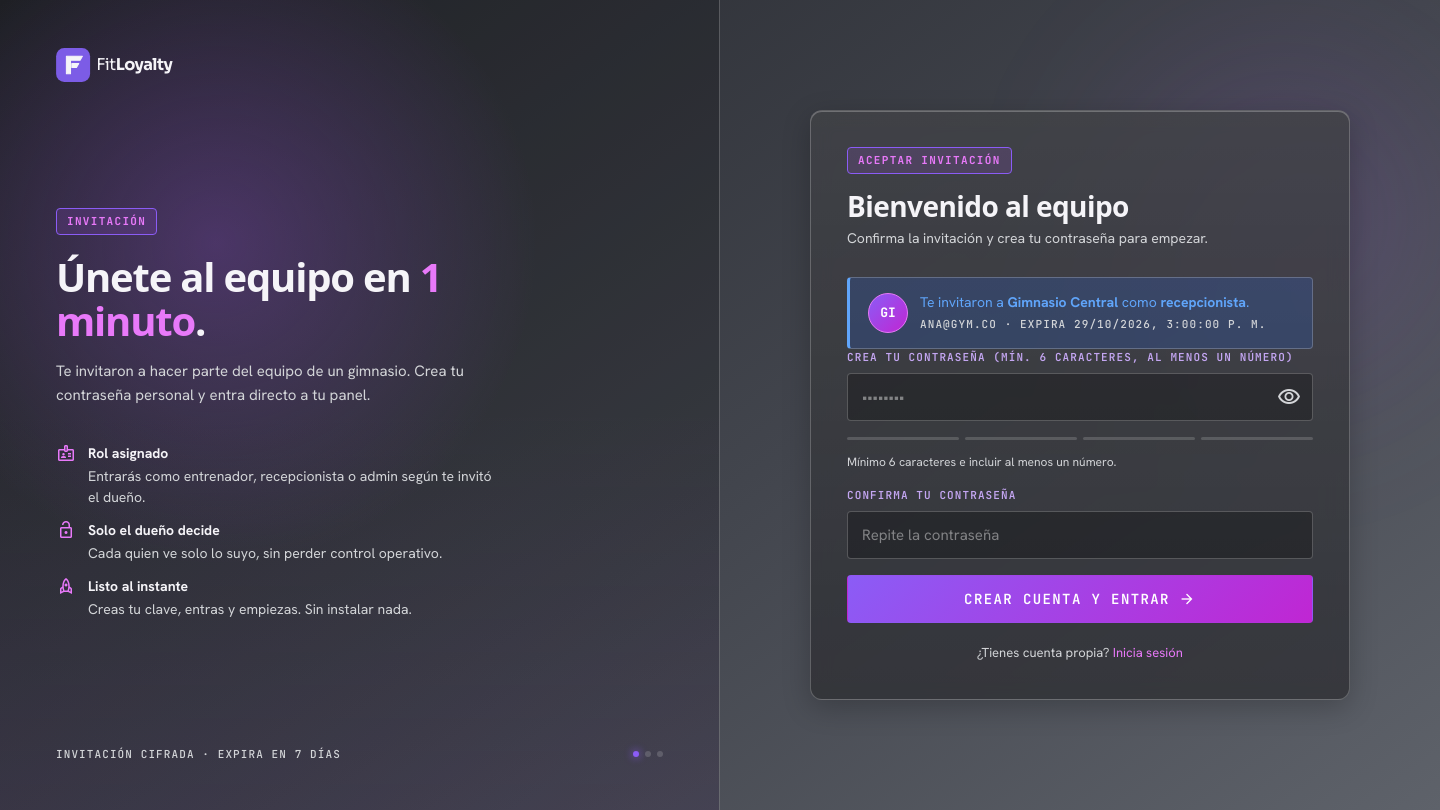
AcceptInvitePage: la contrasena › should explain what is missing when the password is clave
Type "clave" into the 1st password field at (1080, 397), box [847,373,1313,421]
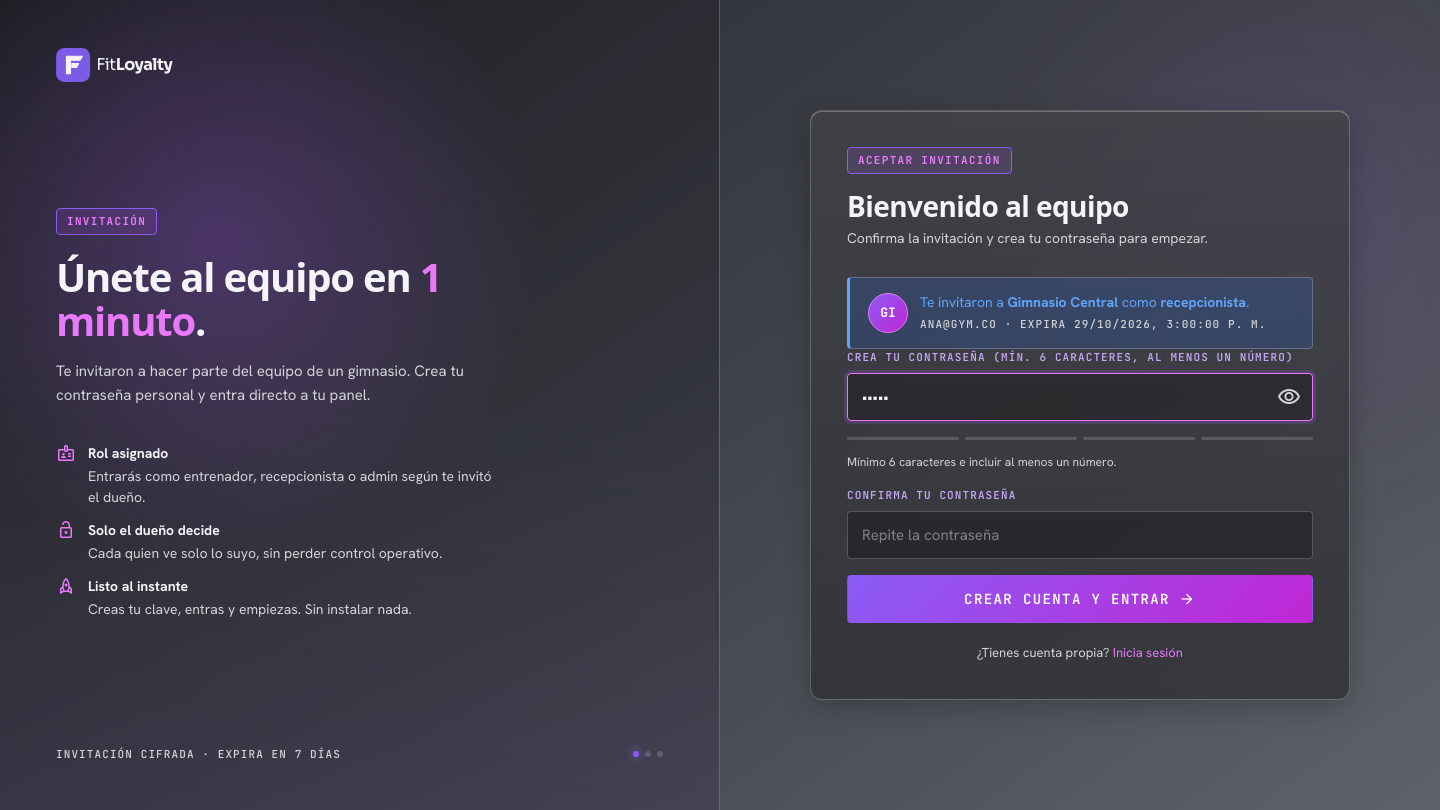
Type "clave" into the password field labelled "Confirma tu contraseña" at (1080, 536), box [847,512,1313,560]
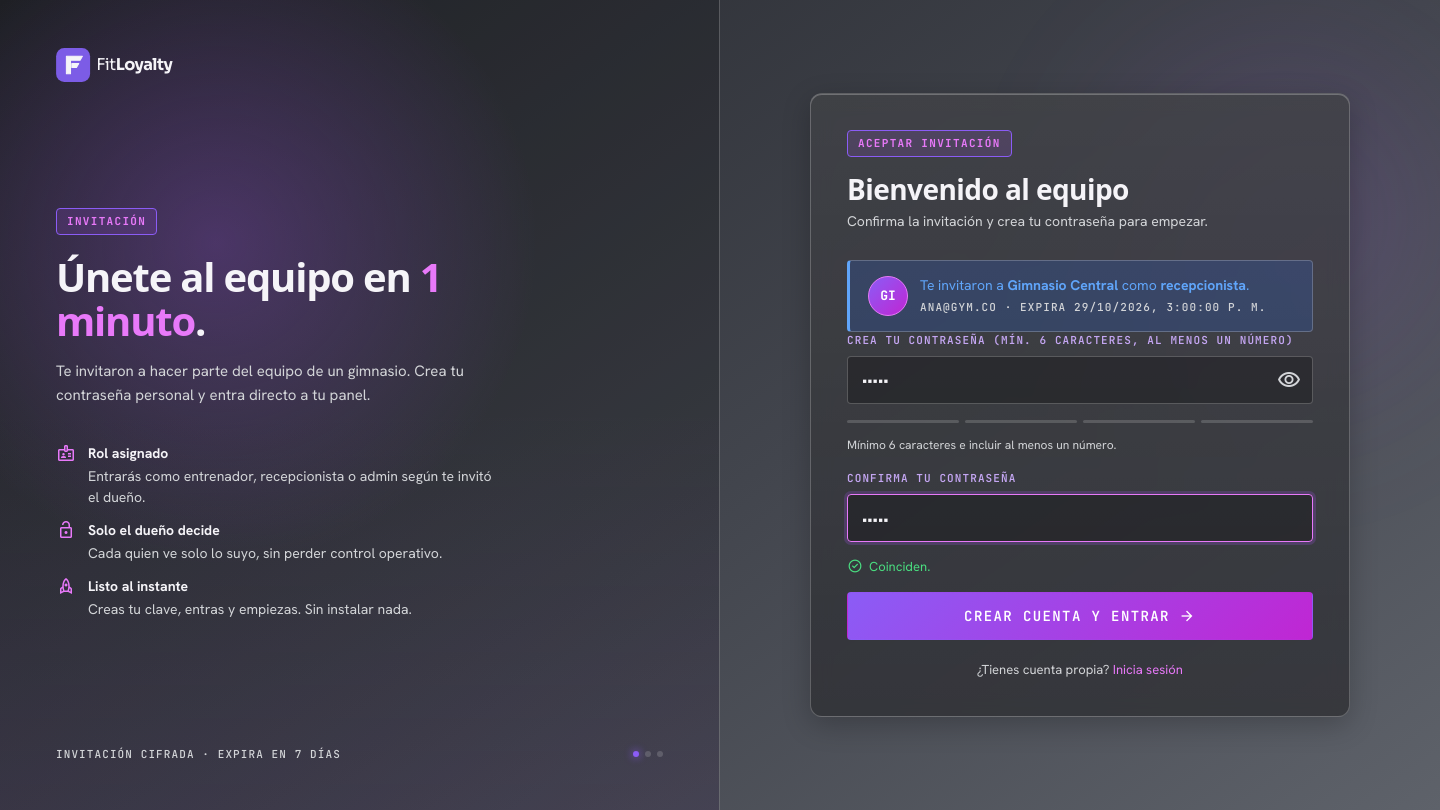
Click the button "Crear cuenta y entrar" at (1080, 616), box [847,592,1313,640]
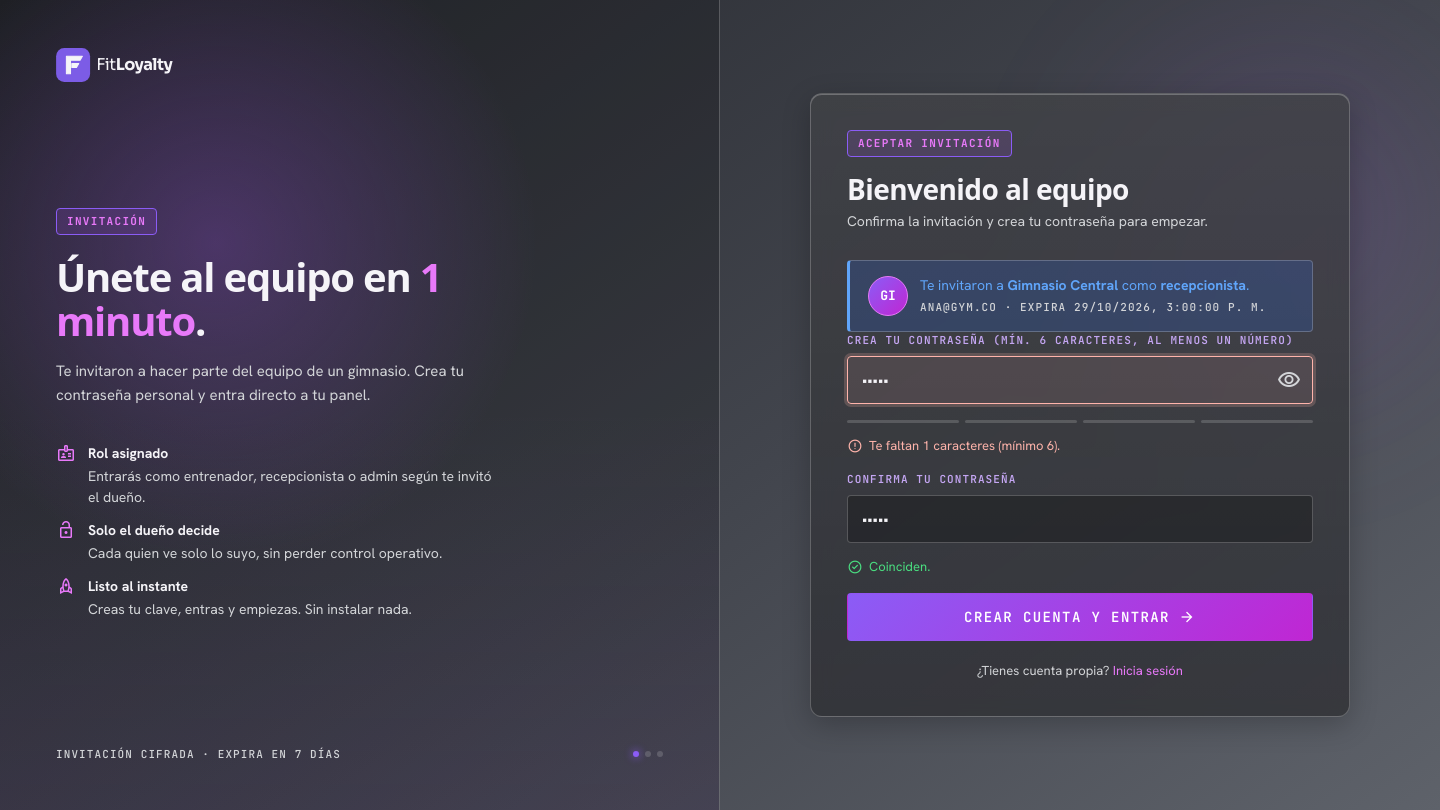
Expected: the text "Te faltan 1 caracteres (mínimo 6)." is shown, [847,436,1060,456]
